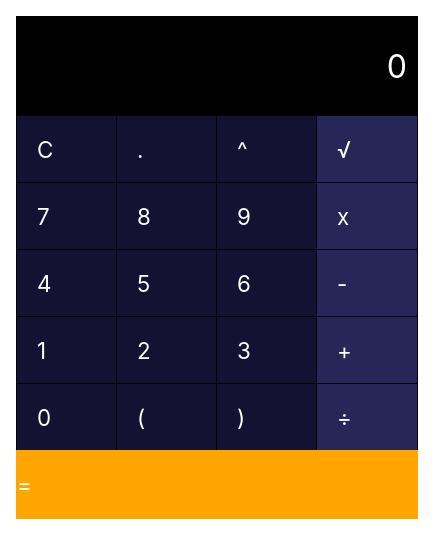
Test: test exponent
Click the text "9": [267, 216] box [217,183,317,250]
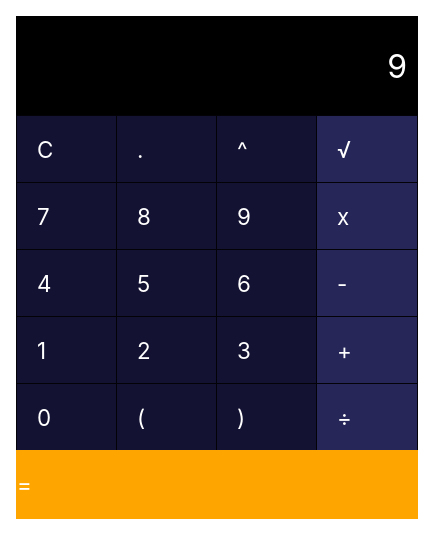
Click the text "^": [267, 150] box [217,116,317,183]
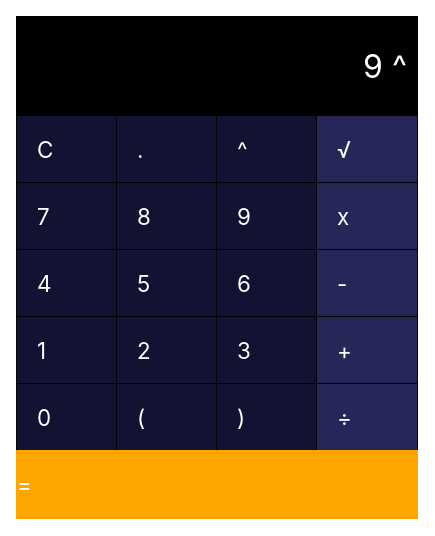
Click the text "2": [167, 350] box [117,317,217,384]
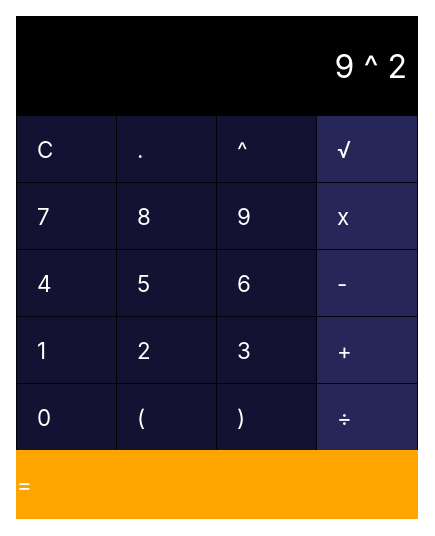
Click the text "=": [217, 484] box [17,451,417,518]
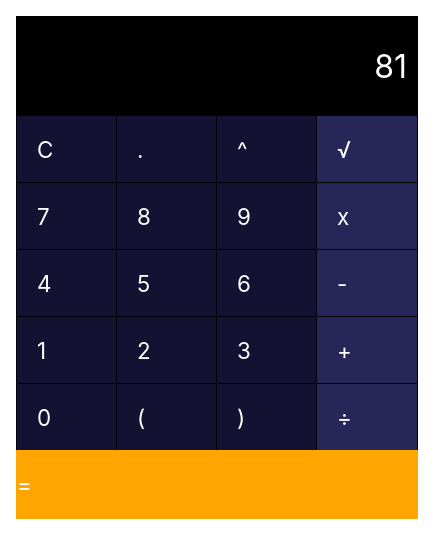
Expected: the text with test id "input-val" reads "81", [374,47,407,86]
